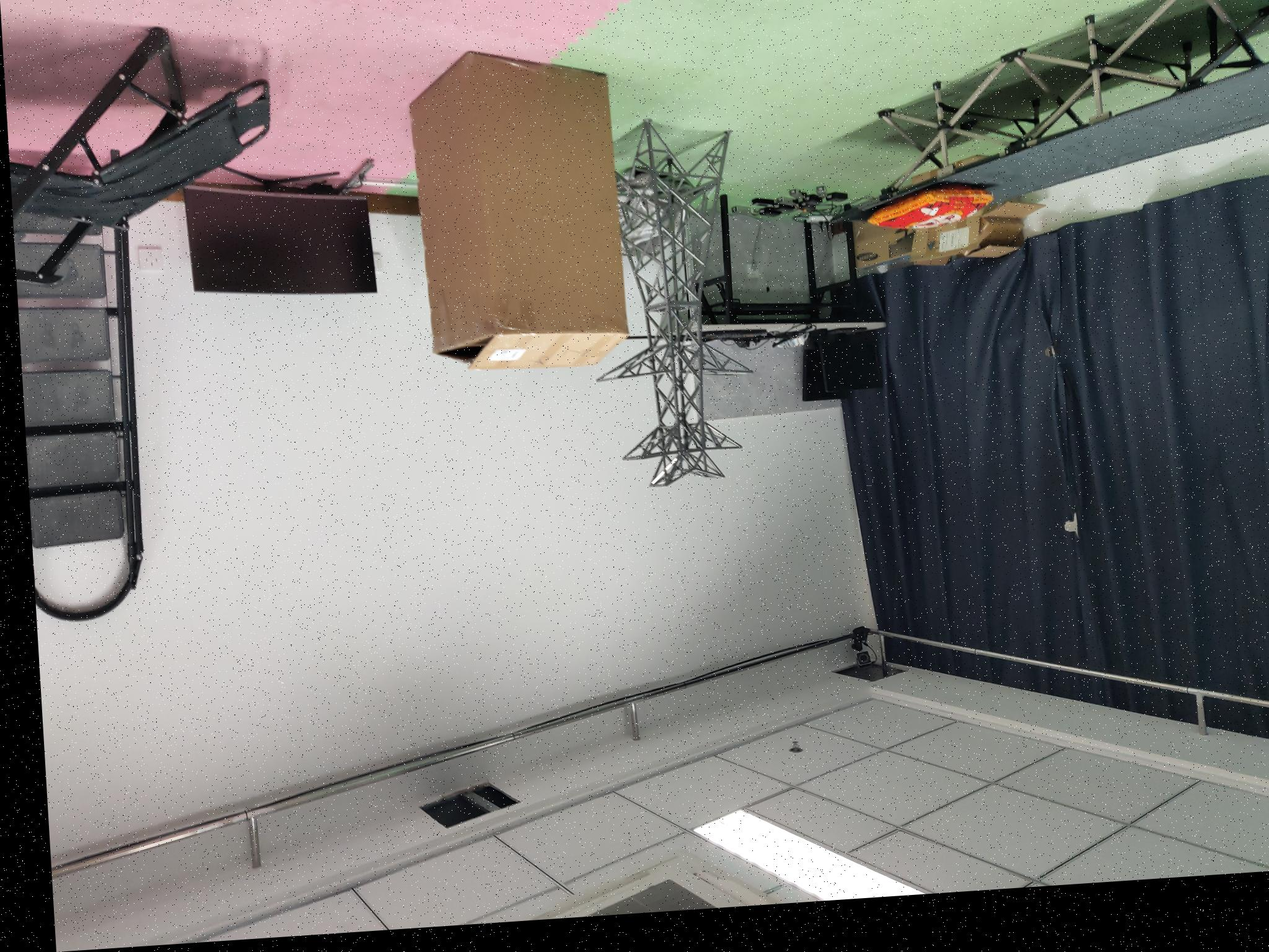tower: (581, 118, 754, 492)
